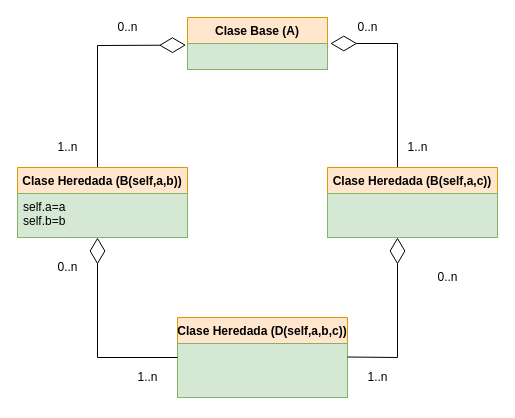
Image size: 515x418. Some labels were removed from this diagram. The centre of each missing label's shape, as x and y in pixels:
"self.a=a" belongs at [257,56].
"self.a=a self.b=b self.c=c" belongs at [262,370].
"self.a=a self.c=c" belongs at [412,215].
